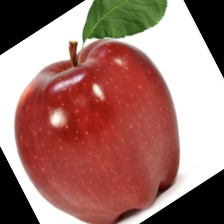apple: (30, 14, 209, 196)
